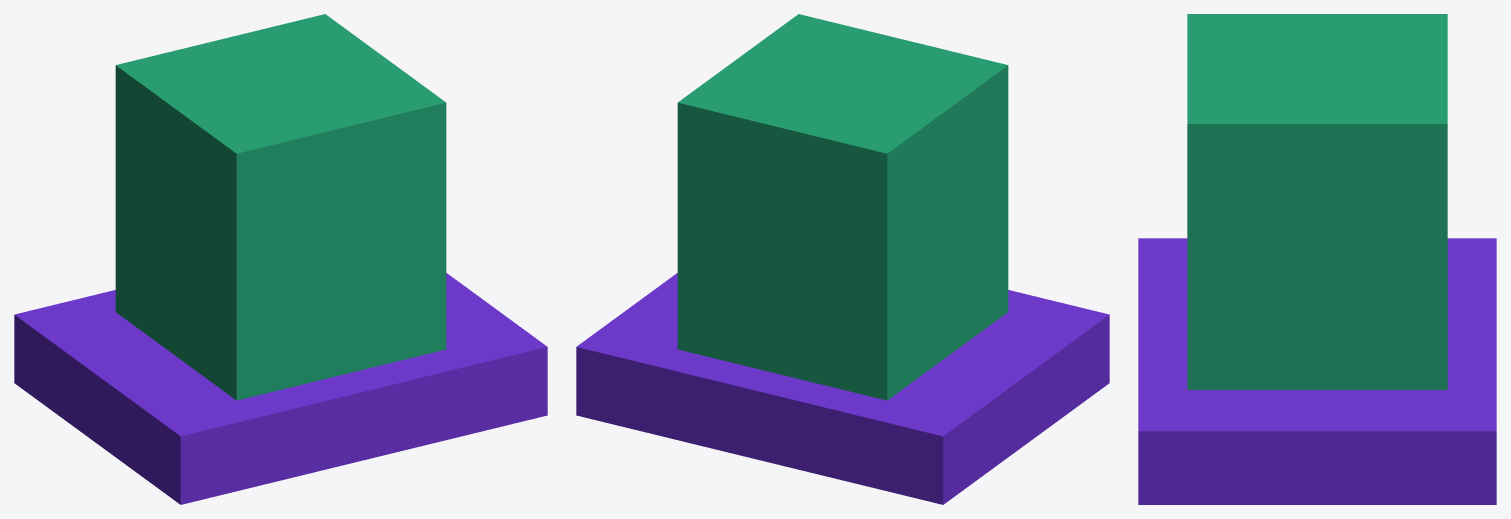
The model's file is spike-object-lv2.glb.
3 views of the same model, side by side, from view 1: azimuth 30°, elevation 25°; view 2: azimuth 150°, elevation 25°; view 3: azimuth 270°, elevation 25° (orthographic). The views are drawn at different scales.
Visible parts, largest first — view 1: Growth2, Base, Growth1; view 2: Growth2, Base, Growth1; view 3: Growth2, Base, Growth1.
Part boxes in pixels (left/top/right/bottom): Growth2: left=115, top=14, right=446, bottom=276; Base: left=14, top=273, right=547, bottom=504; Growth1: left=115, top=189, right=446, bottom=400; Growth2: left=677, top=14, right=1008, bottom=276; Base: left=576, top=273, right=1109, bottom=504; Growth1: left=677, top=189, right=1008, bottom=400; Growth2: left=1187, top=14, right=1447, bottom=256; Base: left=1138, top=238, right=1496, bottom=504; Growth1: left=1187, top=257, right=1447, bottom=389.
Bounding box in the file's own units: 1.4 × 1.15 × 1.1.
